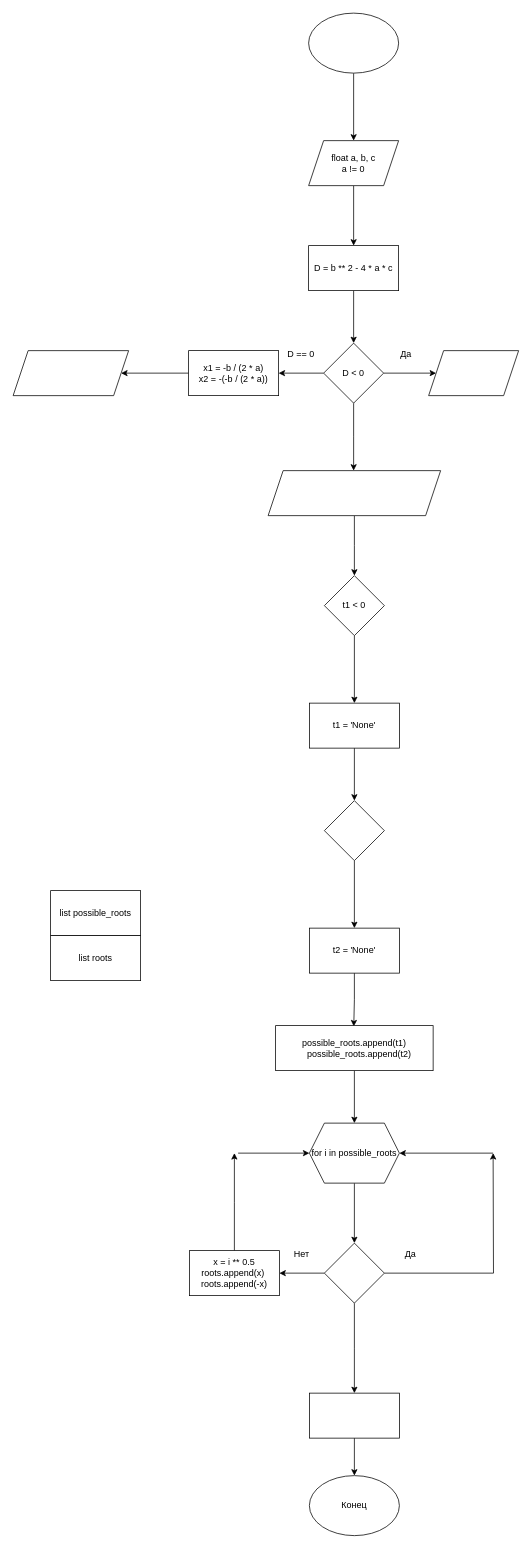
This 532x1549 diagram has some shape labels left out. Here are the shapes that lost their labels. From the top down, the centre of each, then its label:
At [353,42]: "Начало".
At [70,373]: "Уравнение имеет корни x1, x2".
At [473,373]: "Действительных корней нет".
At [354,493]: "t1 = (-b + D ** 0.5) / (2 * a) t2 = (-b - D ** 0.5) / (2 * a)".
At [354,830]: "t2 < 0".
At [354,1272]: "if i != 'None'".
At [354,1415]: "Уравнение имеет корни *roots".
